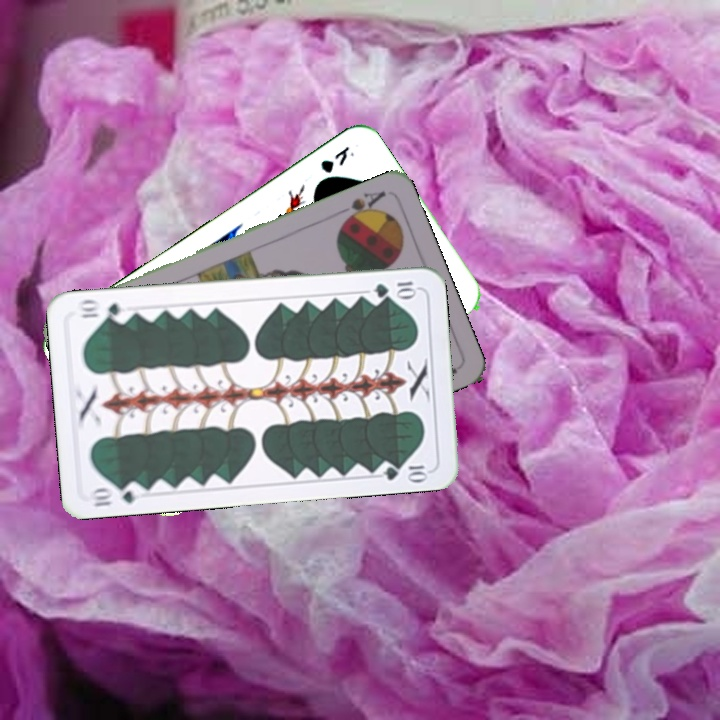G10: (86, 479, 145, 510), (369, 277, 420, 300)
GK: (316, 141, 357, 176)
SA: (333, 186, 389, 227)
